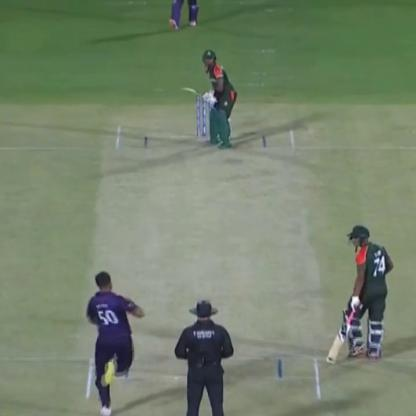bat: (319, 300, 356, 366), (179, 76, 212, 102)
pitch: (84, 118, 328, 415)
